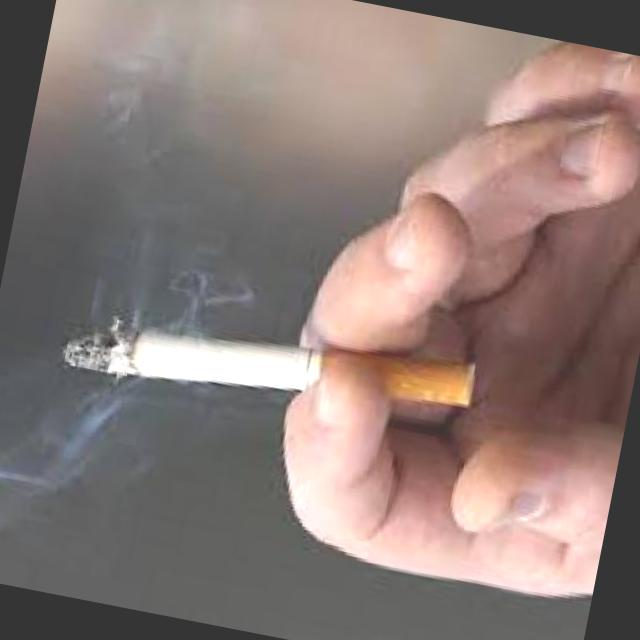cigarette: (56, 277, 486, 454)
